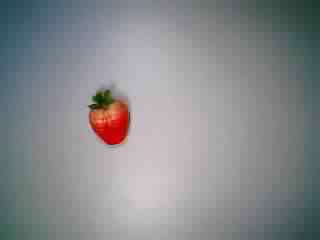strawberry: (76, 88, 142, 150)
